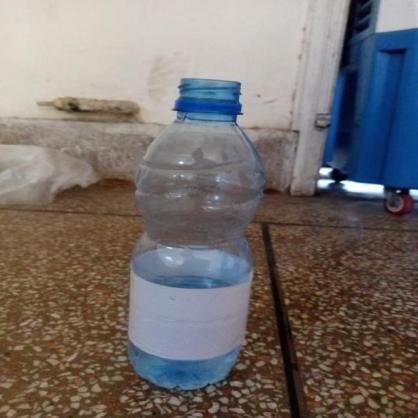bottle: (117, 71, 265, 399)
label: (117, 259, 259, 368)
